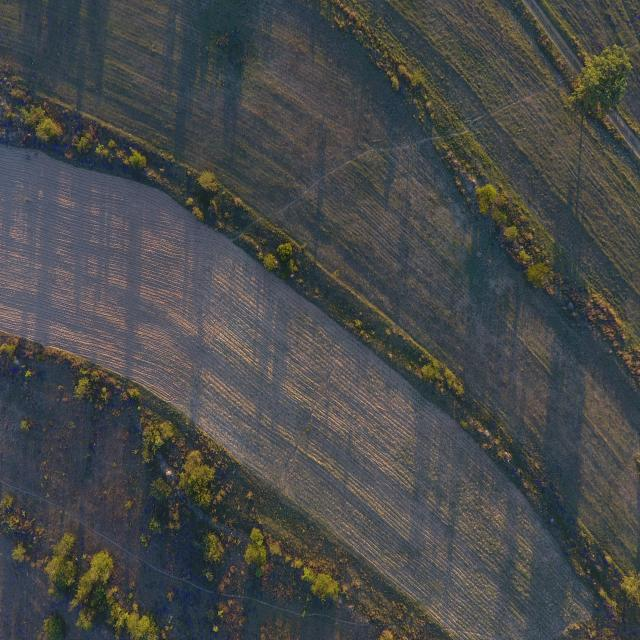boundaries: (23, 74, 630, 607), (350, 14, 634, 403)
